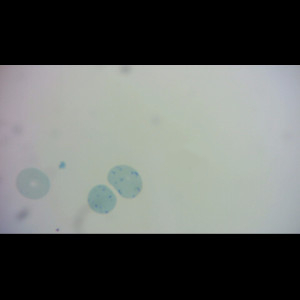aggregate reticulocyte: (106, 164, 145, 200)
erythrocyte: (13, 166, 52, 201)
punctate reticulocyte: (87, 183, 118, 215)
